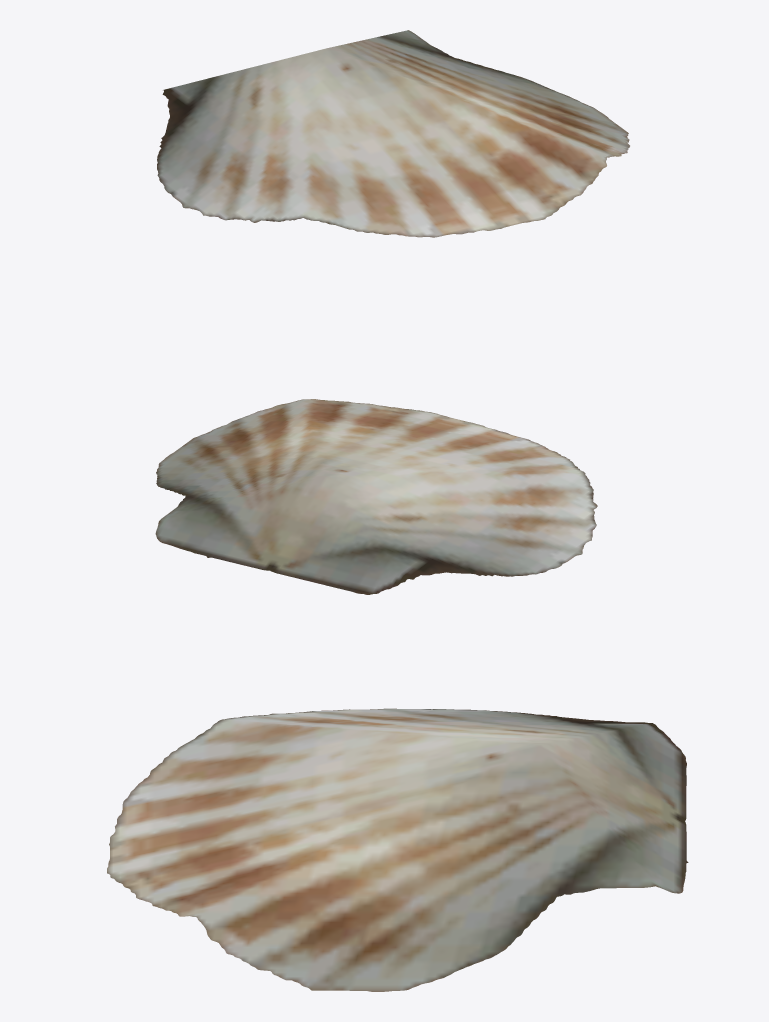
The model's file is shor_seashell_scallop_sh_a1_l0.fbx.
3 renders of one model, top to bottom at view 1: azimuth 30°, elevation 25°; view 2: azimuth 150°, elevation 25°; view 3: azimuth 270°, elevation 25°, orthographic. The views are drawn at different scales.
Visible parts, largest first — view 1: mesh_node; view 2: mesh_node; view 3: mesh_node.
Part boxes in pixels (box(x1,y1,x2,y2)): mesh_node: box(157, 30, 629, 237); mesh_node: box(155, 399, 597, 594); mesh_node: box(107, 708, 688, 991).
Bounding box in the file's own units: 0.1005 × 0.0168 × 0.103.
1 material, 1 textured.
